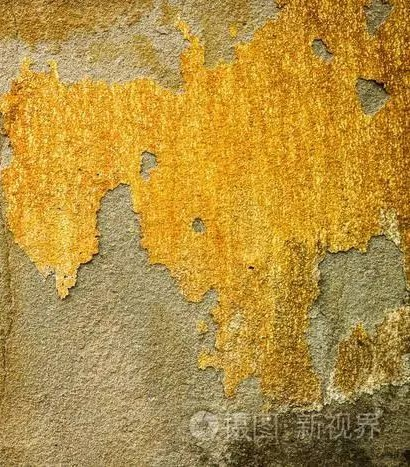Corrosion: (1, 1, 410, 414)
